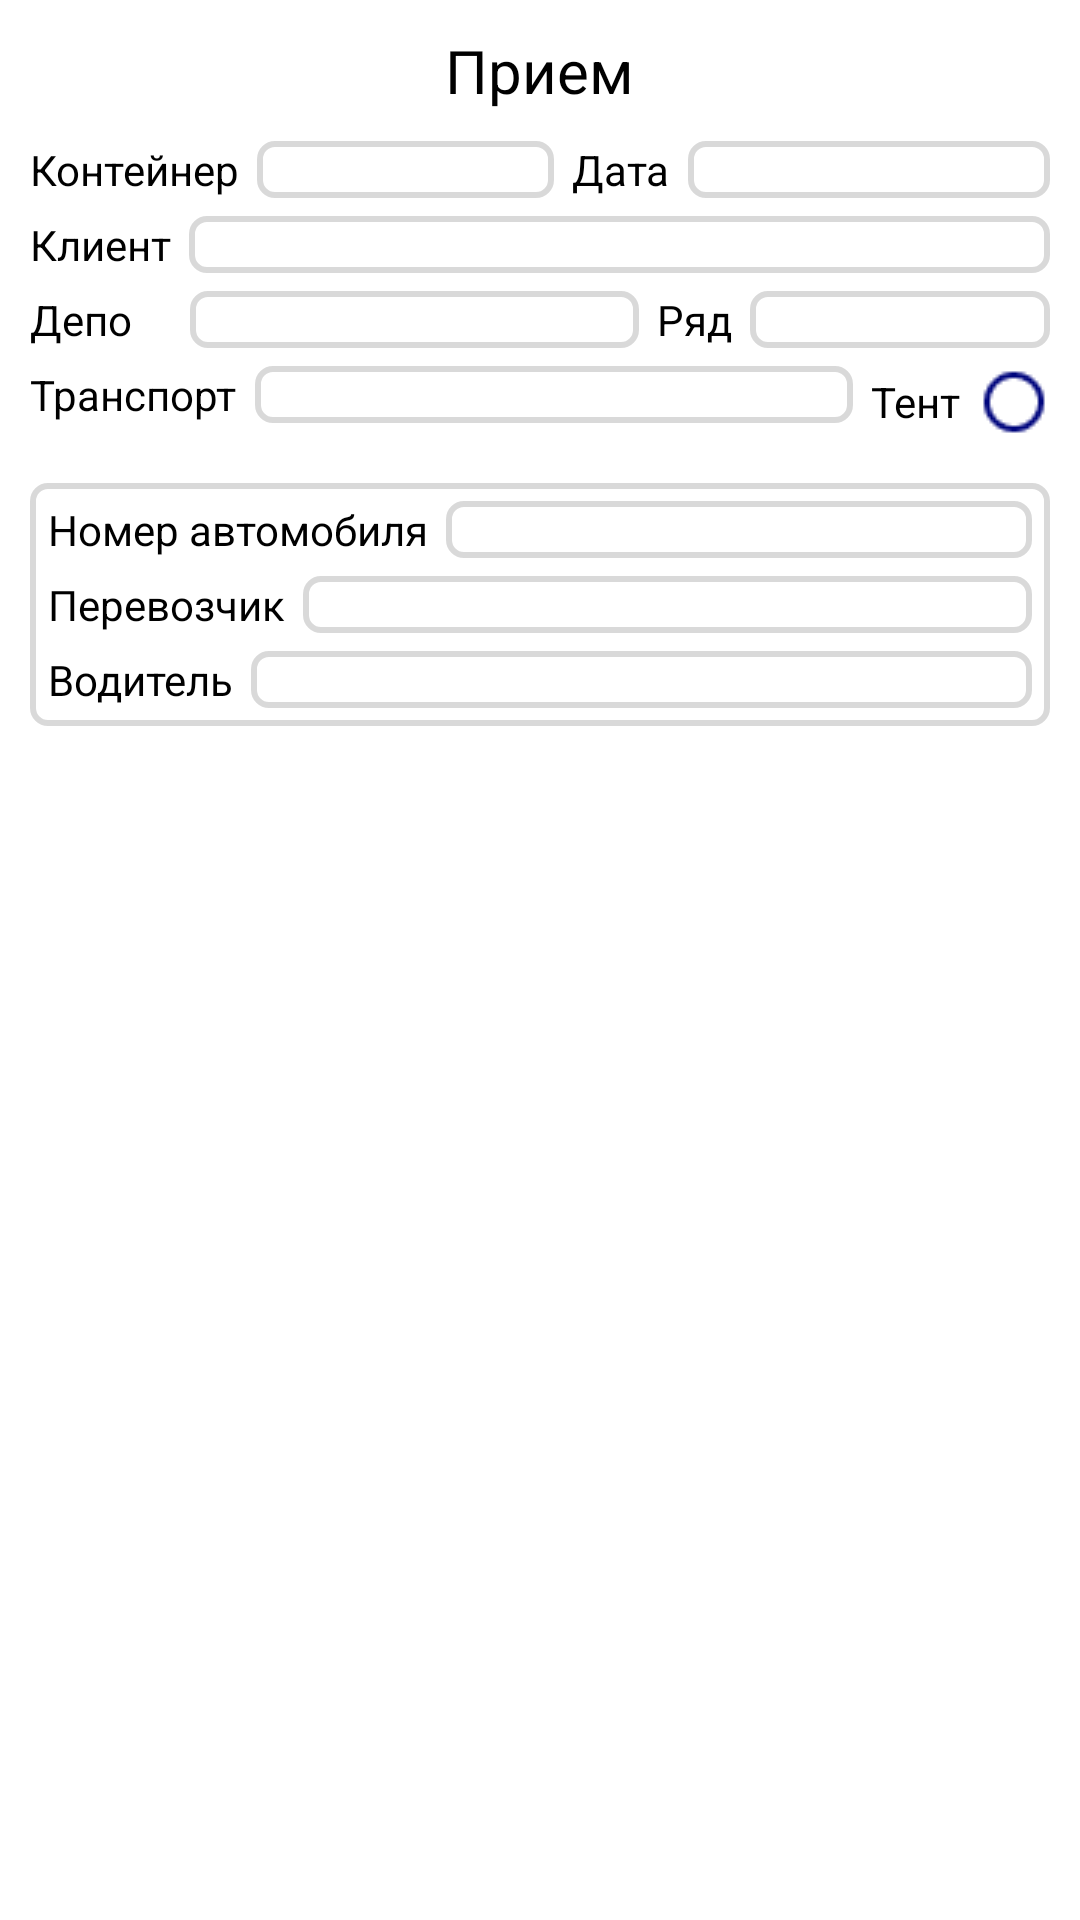

Icon click points for this 1080 × 1920 phone screenshot, format [x,y]:
checkbox: [1014,402]
